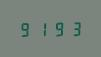nine: (18, 20, 33, 37), (50, 19, 65, 36)
one: (34, 20, 49, 37)
three: (66, 19, 81, 36)
